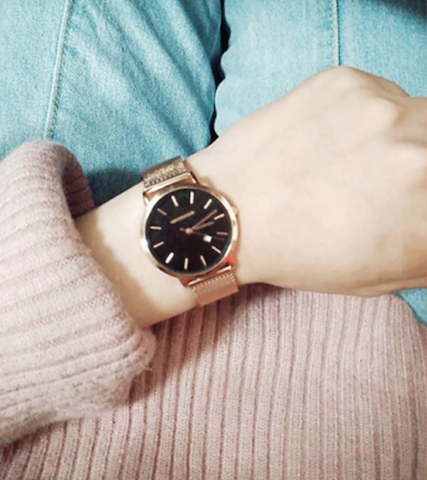watch: (120, 160, 258, 315)
